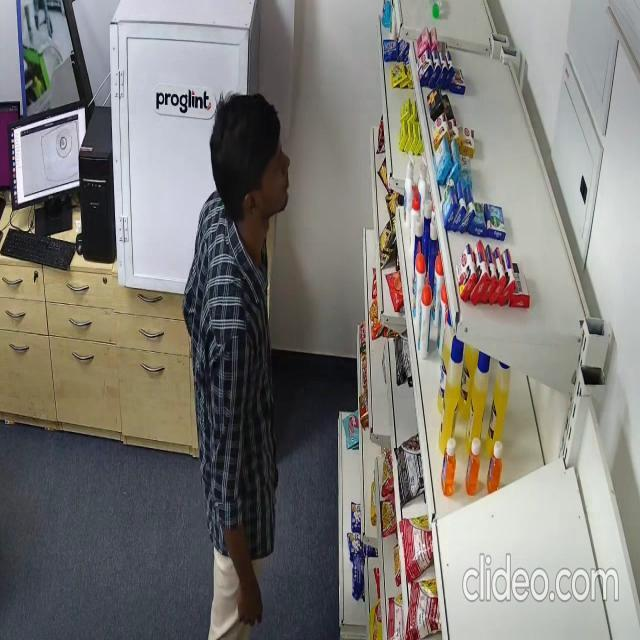Shoplifting: (182, 89, 292, 640)
